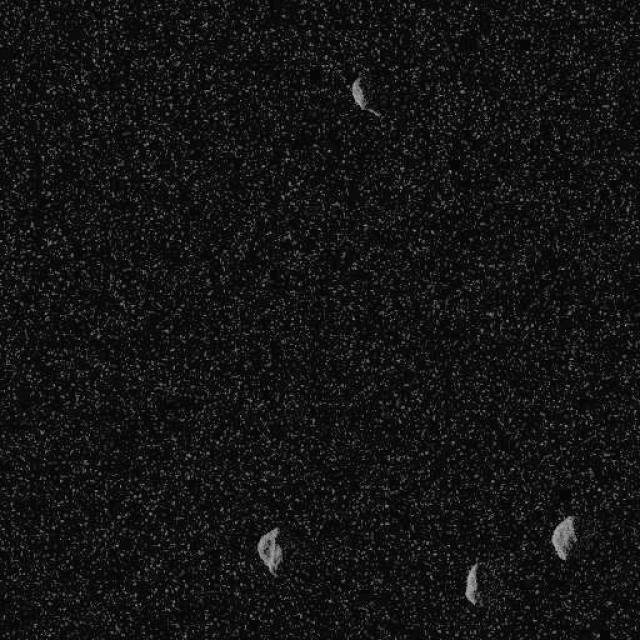D2: (350, 74, 381, 118), (256, 525, 282, 576), (550, 514, 578, 561), (464, 561, 480, 605)
